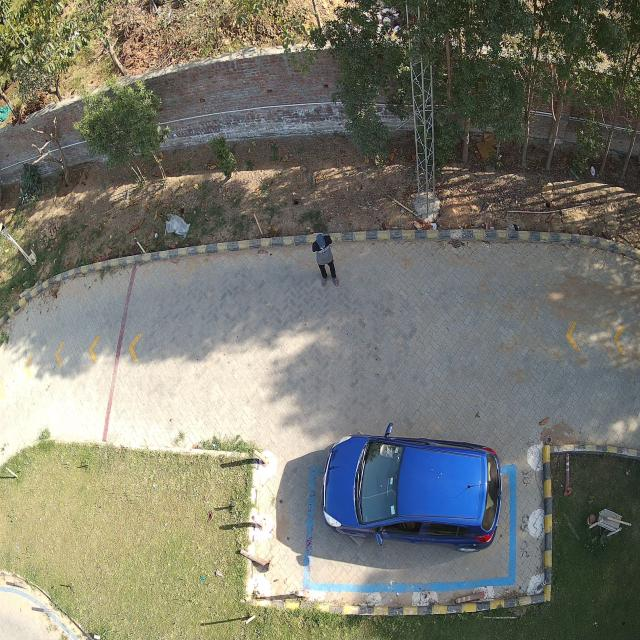car: (322, 427, 501, 552)
